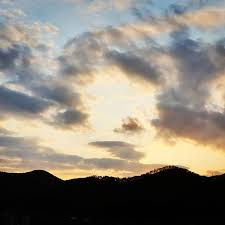mountain: (6, 159, 225, 224)
sky: (3, 5, 218, 177)
